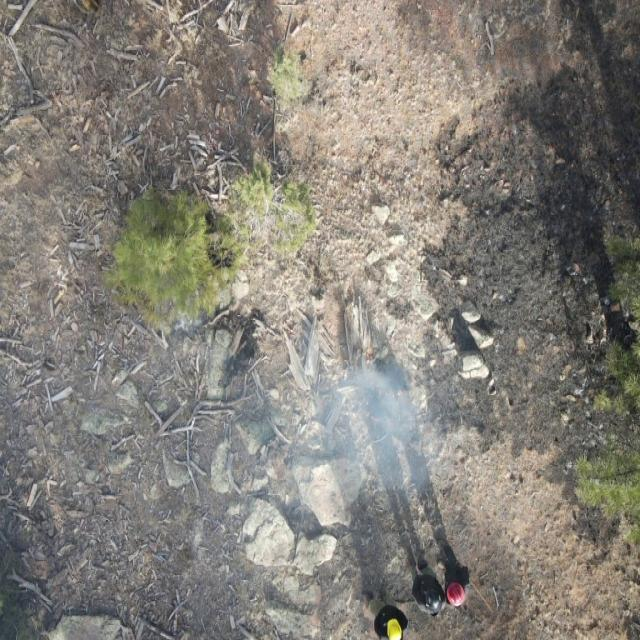fire: (378, 387, 408, 403), (361, 409, 386, 428), (360, 345, 378, 367)
smoke: (131, 308, 443, 510)
